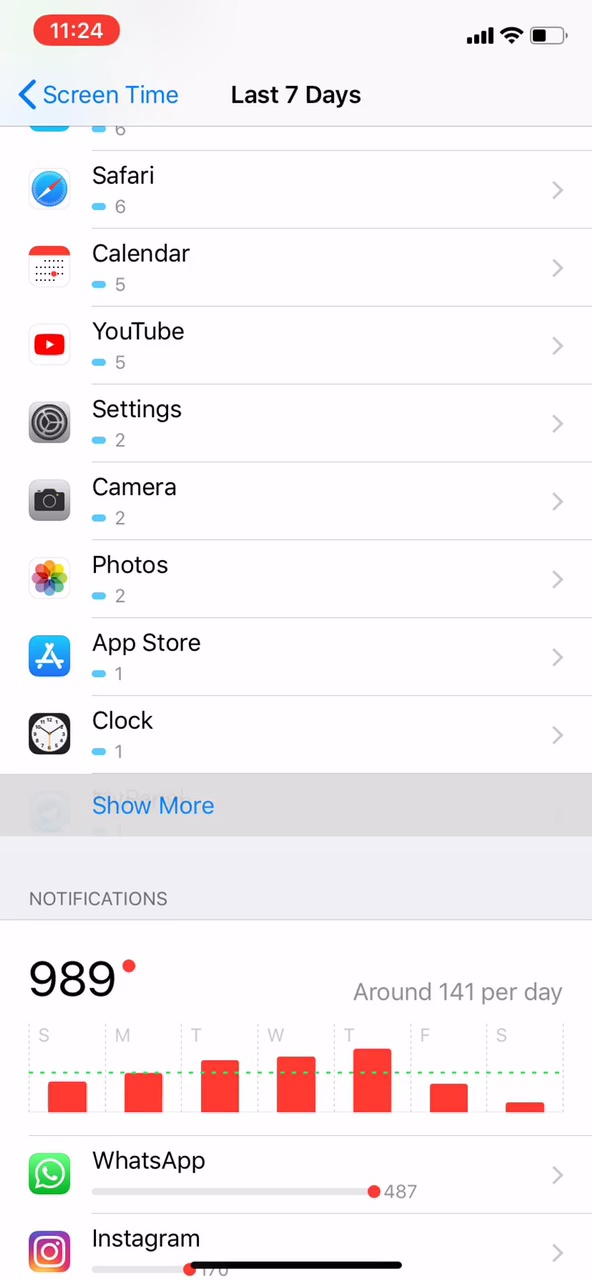not_app: (18, 1146, 459, 1211)
not_over: (20, 877, 220, 1014)
pick_app: (22, 149, 237, 221), (14, 232, 223, 302), (15, 469, 215, 538), (18, 628, 248, 688), (15, 552, 226, 616), (17, 314, 215, 382), (17, 388, 209, 458), (23, 702, 239, 763)
week: (223, 77, 378, 114)
